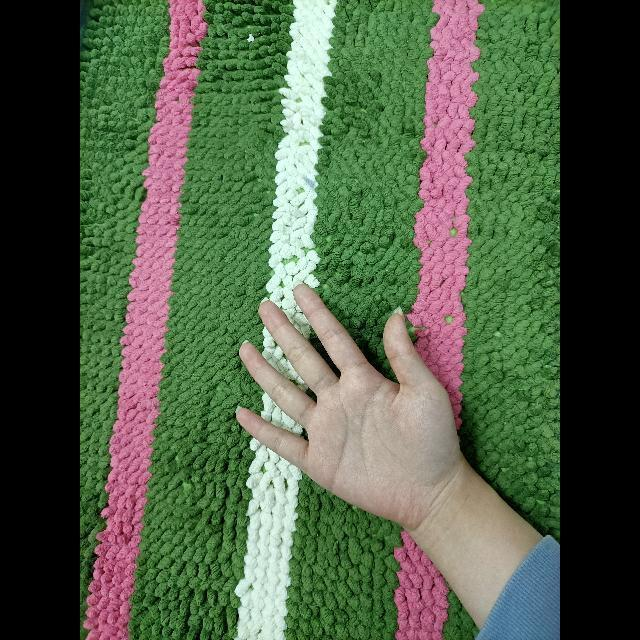bare_hand: (223, 283, 477, 545)
